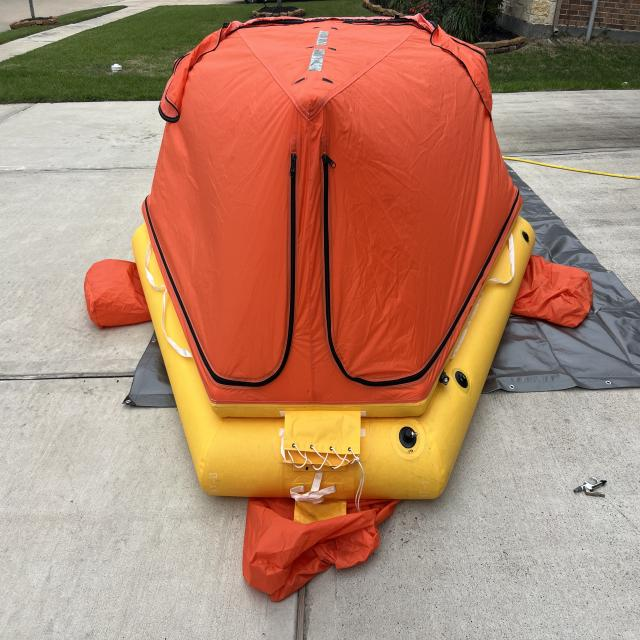Multi-person_life_raft: (83, 13, 594, 605)
